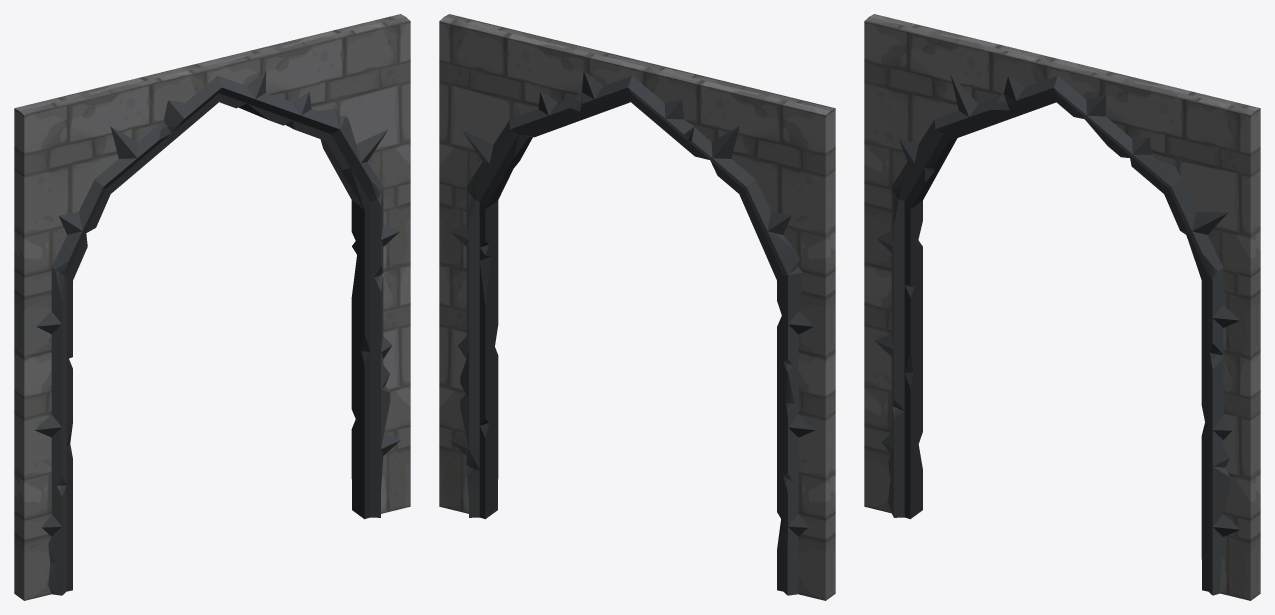
File: wall_l_arch.gltf
3 renders of one model, left to right at view 1: azimuth 30°, elevation 25°; view 2: azimuth 150°, elevation 25°; view 3: azimuth 330°, elevation 25°, orthographic.
Parts seen in each view (by area): view 1: wall_l_arch; view 2: wall_l_arch; view 3: wall_l_arch.
Boxes of the visible parts, <box> form: wall_l_arch: <box>14,14,410,600</box>; wall_l_arch: <box>439,14,835,600</box>; wall_l_arch: <box>864,14,1260,600</box>.
Bounding box in the file's own units: 5 × 6.02 × 0.4141.
Materials: 2 (2 with a texture image).
